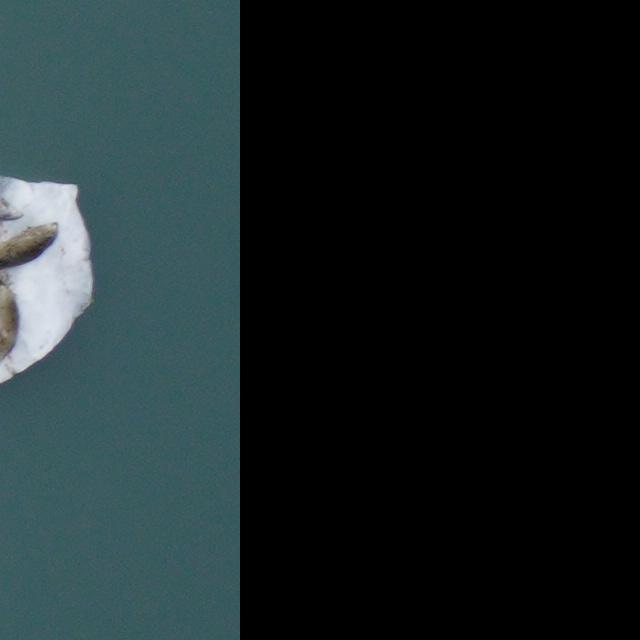seal: (0, 217, 67, 271), (0, 279, 20, 359)
